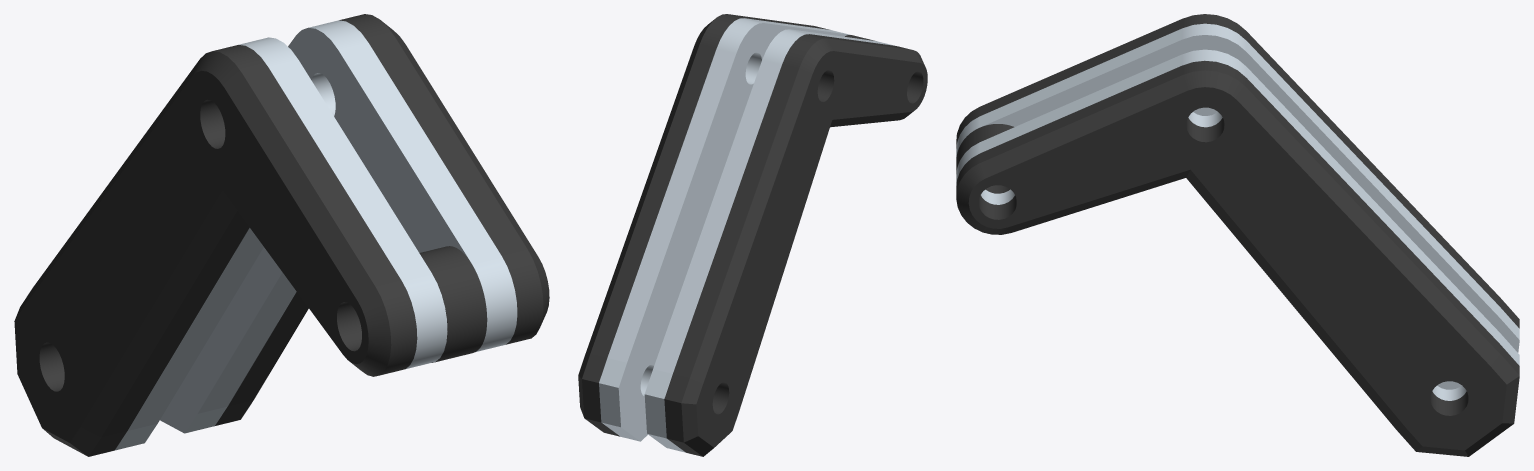
The model's file is Bottom Back Linkage.glb.
The picture shows the model from 3 angles, left to right: view 1: azimuth 30°, elevation 25°; view 2: azimuth 150°, elevation 25°; view 3: azimuth 270°, elevation 25°; orthographic projection. The views are drawn at different scales.
Parts seen in each view (by area): view 1: Bottom Back Linkage; view 2: Bottom Back Linkage; view 3: Bottom Back Linkage.
Part boxes in pixels (box(x1,y1,x2,y2)): Bottom Back Linkage: box(14, 14, 549, 456); Bottom Back Linkage: box(578, 14, 927, 456); Bottom Back Linkage: box(956, 14, 1519, 456).
Size of the model in its own units: 0.019 by 0.0511 by 0.0675.
